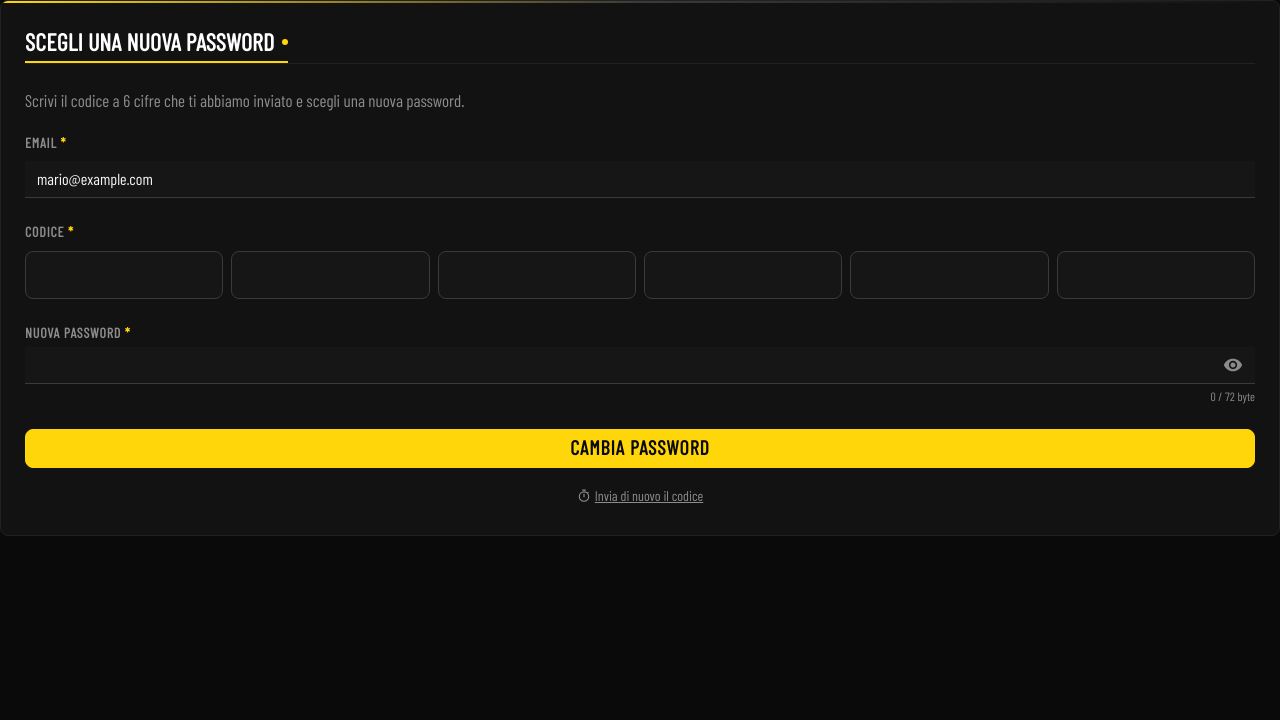
Test: ResetPasswordPage › la nuova password con emoji è bloccata dal client, senza chiamare il server
Click the field named "Cifra 1 di 6" at (124, 275), box [25,251,223,299]
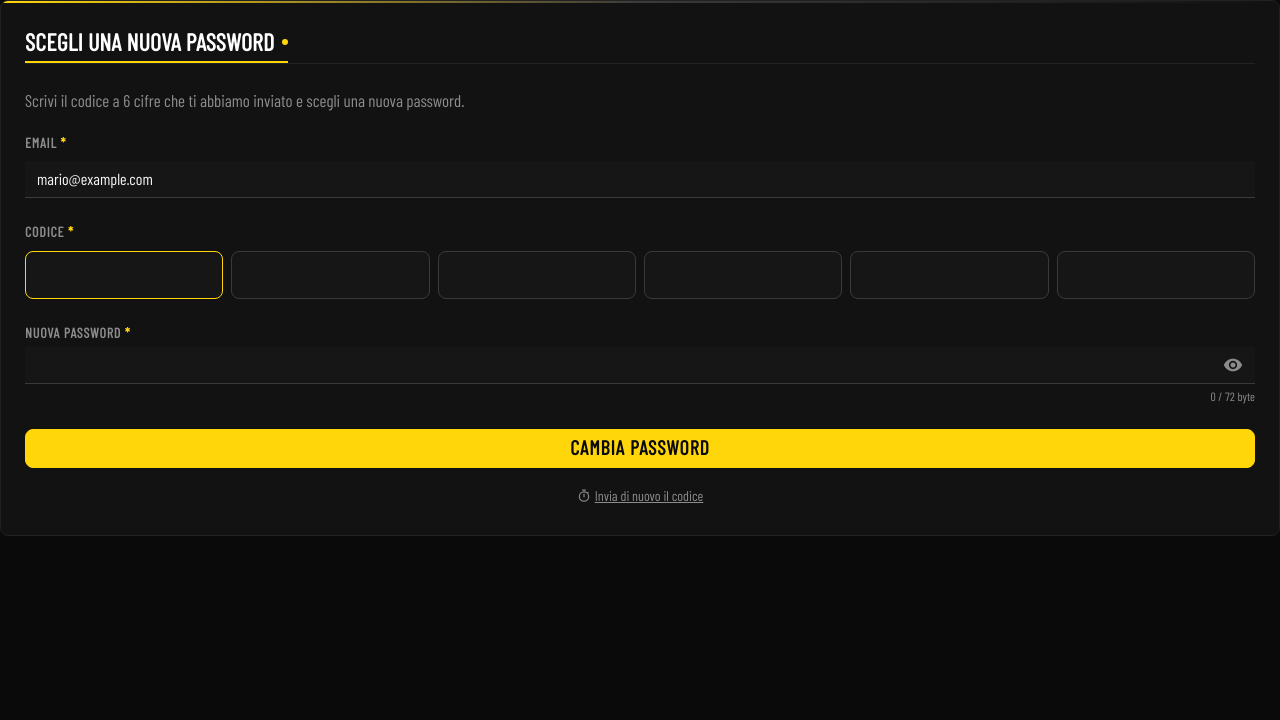
Type keys "482019"
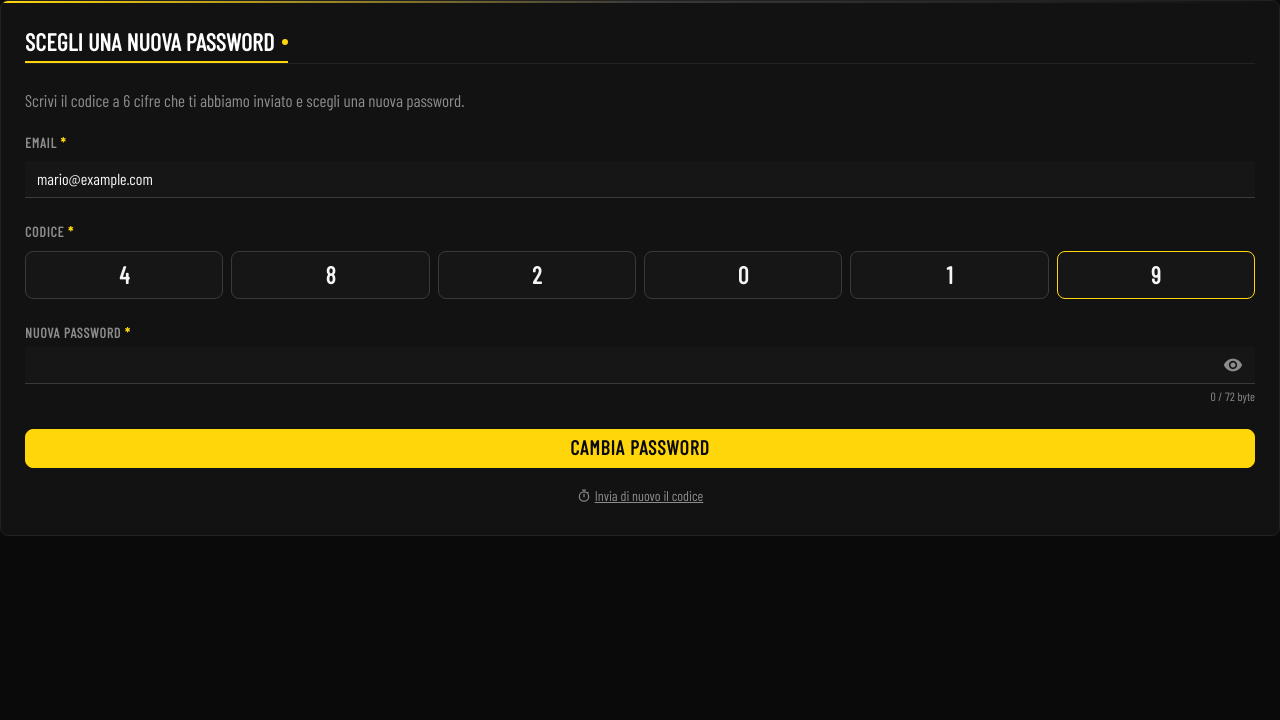
Type "nuova-🎸-password" into the password field labelled "Nuova password" at (640, 365), box [25,347,1255,384]
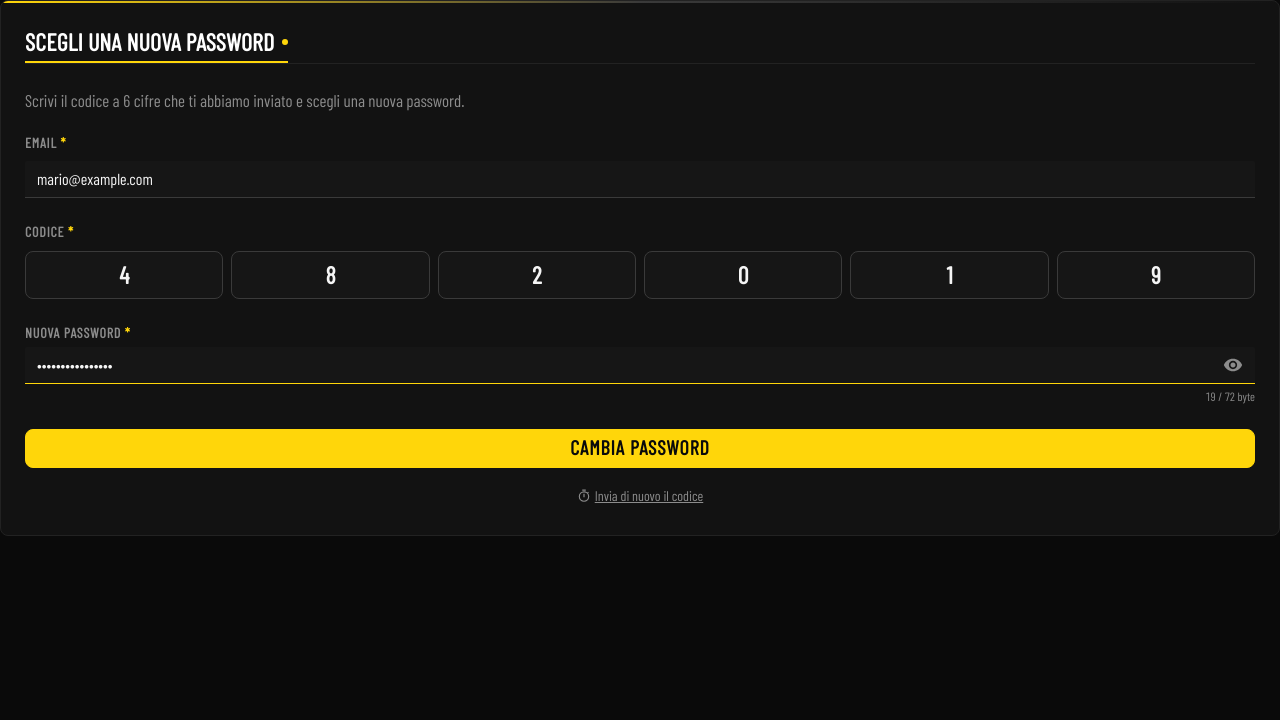
Click the button "Cambia password" at (640, 449), box [25,429,1255,468]
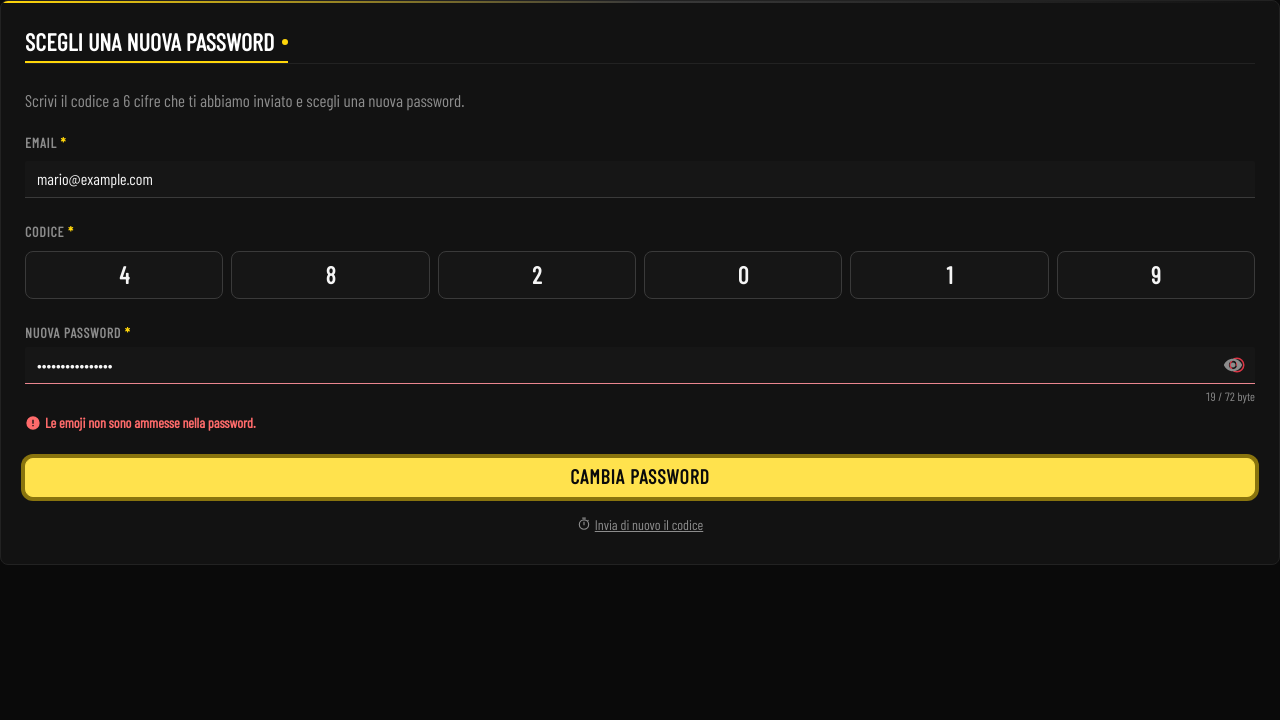
expect the text "Le emoji non sono ammesse nella password." is shown: met, box [45,413,256,434]
